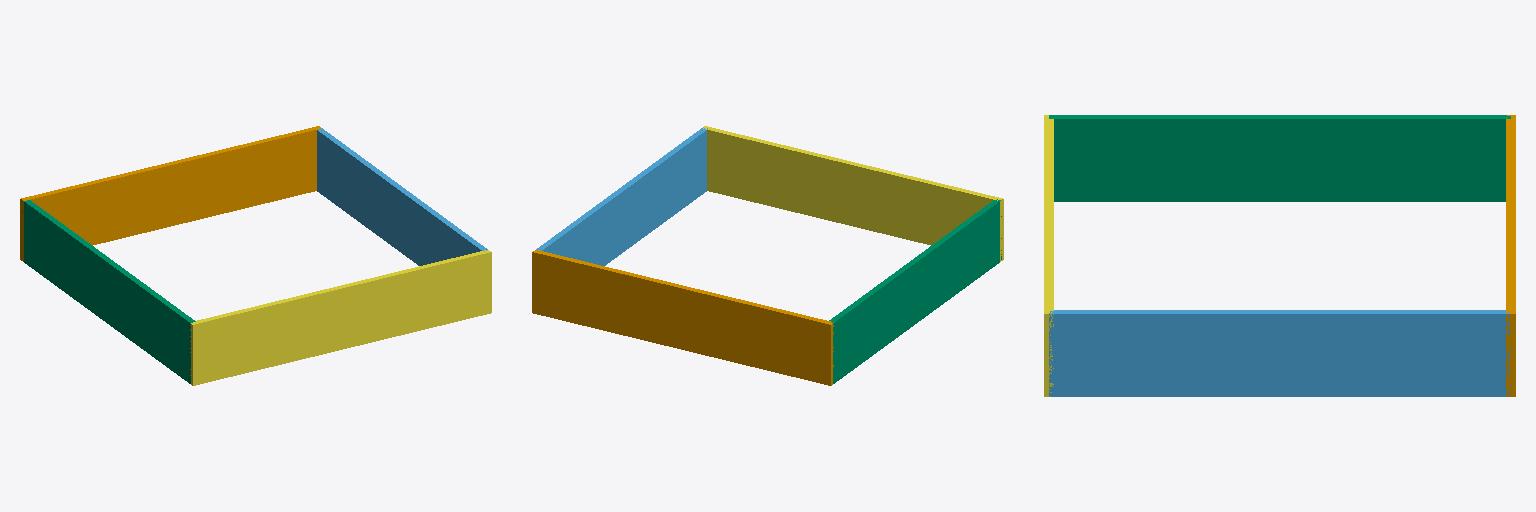
The robot description file, URDF, robot "room_10_10":
<?xml version="0.0" ?>
<robot name="room_10_10">
  <link name="wall_top">
    <inertial>
        <mass value="1"/>
        <inertia ixx="1" ixy="0" ixz="0" iyy="1" iyz="0" izz="1"/>
    </inertial>
    <visual>
      <geometry>
	    <box size="10.2 0.2 2"/>
      </geometry>
      <origin xyz="0 5 1"/>
    </visual>
    <collision>
      <geometry>
	    <box size="10.2 0.2 2"/>
      </geometry>
      <origin xyz="0 5 1"/>
    </collision>
  </link>

  <link name="wall_right">
    <inertial>
        <mass value="1"/>
        <inertia ixx="1" ixy="0" ixz="0" iyy="1" iyz="0" izz="1"/>
    </inertial>
    <visual>
      <geometry>
	    <box size="0.2 10 2"/>
      </geometry>
      <origin xyz="5 0 1"/>
    </visual>
    <collision>
      <geometry>
	    <box size="0.2 10 2"/>
      </geometry>
      <origin xyz="5 0 1"/>
    </collision>
  </link>


  <joint name="top_to_right" type="fixed">
    <origin xyz="0 0 0"/>
    <parent link="wall_top"/>
    <child link="wall_right"/>
  </joint>

    <link name="wall_left">
    <inertial>
        <mass value="1"/>
        <inertia ixx="1" ixy="0" ixz="0" iyy="1" iyz="0" izz="1"/>
    </inertial>
    <visual>
      <geometry>
	    <box size="0.2 10 2"/>
      </geometry>
      <origin xyz="-5 0 1"/>
    </visual>
    <collision>
      <geometry>
	    <box size="0.2 10 2"/>
      </geometry>
      <origin xyz="-5 0 1"/>
    </collision>
  </link>


  <joint name="top_to_left" type="fixed">
    <origin xyz="0.0 0.0 0.0"/>
    <parent link="wall_top"/>
    <child link="wall_left"/>
  </joint>

  <link name="wall_bottom">
    <inertial>
        <mass value="1"/>
        <inertia ixx="1" ixy="0" ixz="0" iyy="1" iyz="0" izz="1"/>
    </inertial>
    <visual>
      <geometry>
	    <box size="10.2 0.2 2"/>
      </geometry>
      <origin xyz="0 -5 1"/>
    </visual>
    <collision>
      <geometry>
	    <box size="10.2 0.2 2"/>
      </geometry>
      <origin xyz="0 -5 1"/>
    </collision>
  </link>

<joint name="right_to_bottom" type="fixed">
    <origin xyz="0.0 0.0 0.0"/>
    <parent link="wall_right"/>
    <child link="wall_bottom"/>
  </joint>


</robot>

--- Render facts (derived) ---
Views: 3 orthographic renders of the robot side by side, from view 1: azimuth 30°, elevation 25°; view 2: azimuth 150°, elevation 25°; view 3: azimuth 270°, elevation 25°.
Model room_10_10 with 4 links and 3 joints (3 fixed), rooted at wall_top, posed all joints at 0.
Links seen in each view (by area): view 1: wall_bottom, wall_top, wall_left, wall_right; view 2: wall_top, wall_bottom, wall_left, wall_right; view 3: wall_right, wall_left, wall_top, wall_bottom.
Boxes of the visible links, bbox=[...] form: wall_bottom: bbox=[190, 250, 491, 385]; wall_top: bbox=[20, 126, 321, 261]; wall_left: bbox=[22, 200, 195, 383]; wall_right: bbox=[317, 128, 487, 265]; wall_top: bbox=[532, 250, 833, 385]; wall_bottom: bbox=[703, 126, 1003, 261]; wall_left: bbox=[829, 199, 1001, 383]; wall_right: bbox=[536, 127, 707, 265]; wall_right: bbox=[1049, 310, 1510, 396]; wall_left: bbox=[1049, 115, 1510, 201]; wall_top: bbox=[1506, 115, 1515, 396]; wall_bottom: bbox=[1044, 115, 1053, 396].
Bounding box of the posed robot: 10.2 × 10.2 × 2 m (x, y, z).
Geometry: primitives only (box / cylinder / sphere), no mesh files.